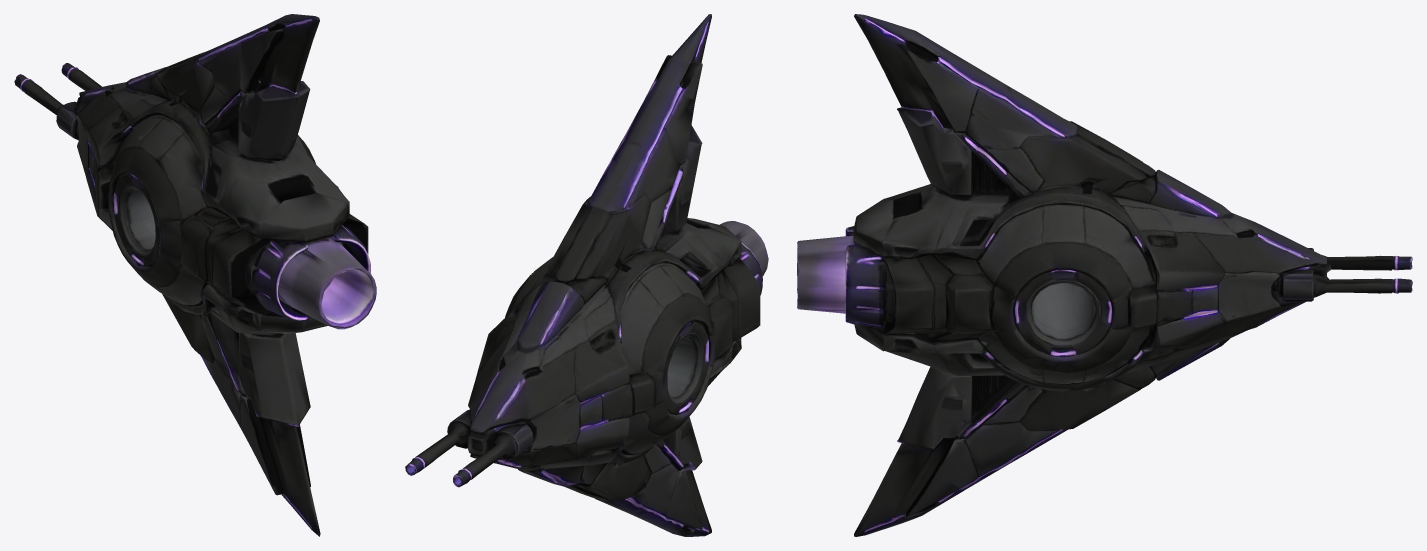
The model's file is shadow.glb.
3 views of the same model, side by side, from view 1: azimuth 30°, elevation 25°; view 2: azimuth 150°, elevation 25°; view 3: azimuth 270°, elevation 25° (orthographic).
Parts seen in each view (by area): view 1: tripo_node_1cb68e49-dec0-466b-9b9c-357e74628d6d; view 2: tripo_node_1cb68e49-dec0-466b-9b9c-357e74628d6d; view 3: tripo_node_1cb68e49-dec0-466b-9b9c-357e74628d6d.
Part boxes in pixels (box(x1,y1,x2,y2)): tripo_node_1cb68e49-dec0-466b-9b9c-357e74628d6d: box(14, 14, 376, 536); tripo_node_1cb68e49-dec0-466b-9b9c-357e74628d6d: box(405, 14, 768, 536); tripo_node_1cb68e49-dec0-466b-9b9c-357e74628d6d: box(797, 14, 1412, 536).
Size of the model in its own units: 0.3059 by 0.9171 by 0.9799.
1 material, 1 textured.
